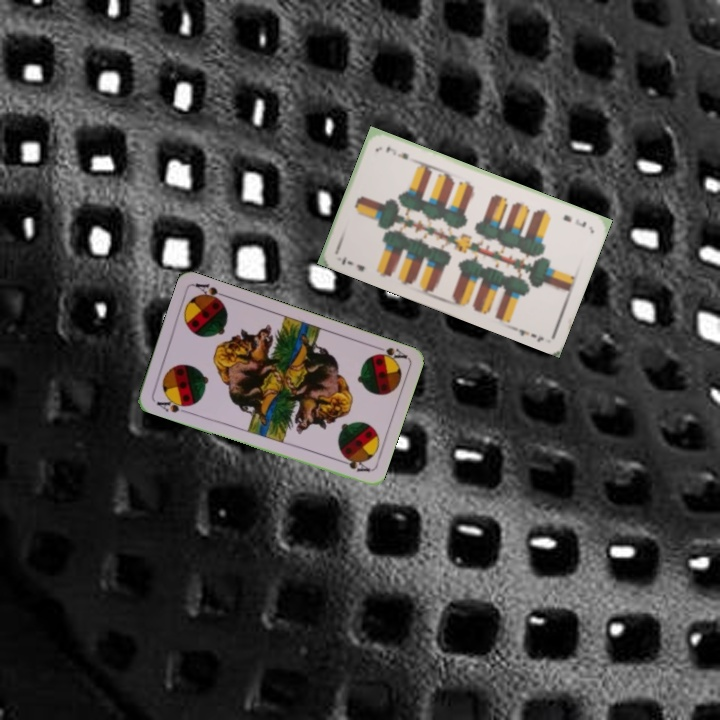E7: (337, 252, 367, 274), (559, 210, 589, 230)
SA: (368, 341, 409, 366), (152, 394, 193, 416)
